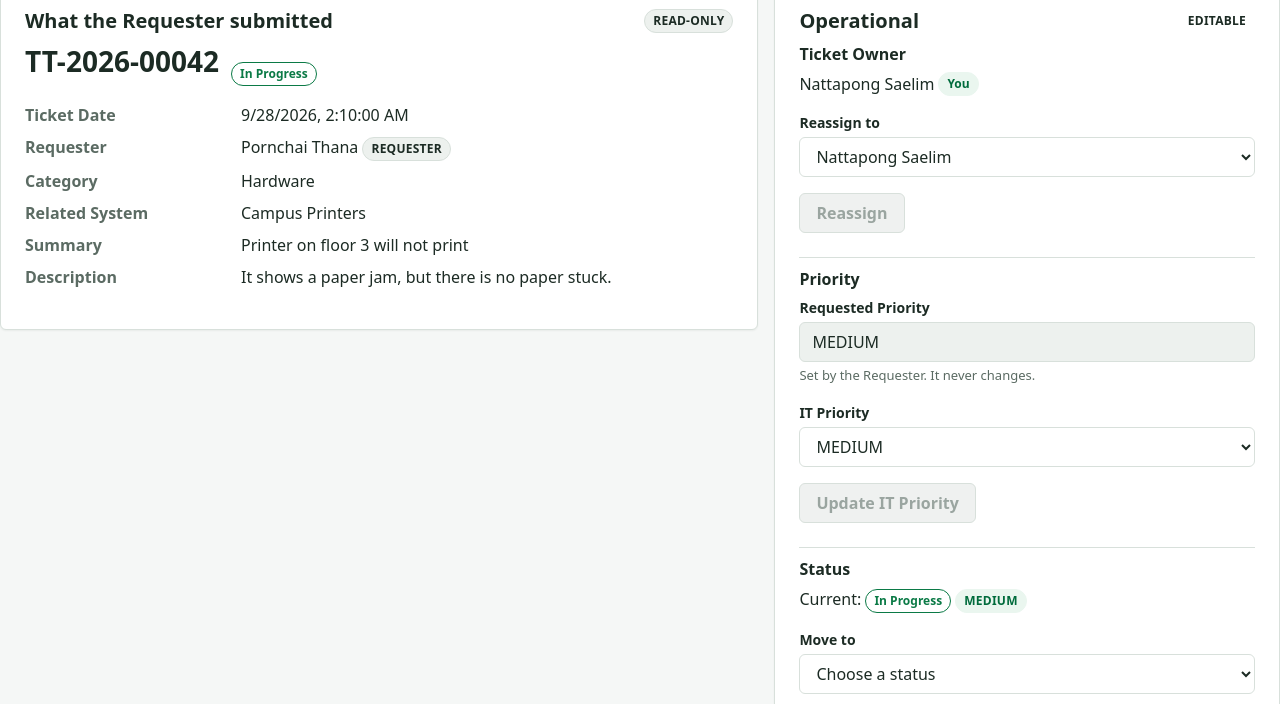
Test: UI-12 a gate refusal that reaches the server (AC-03, AC-16, BR-18) › shows {"status":409,"code":"ACTION_REQUIRED","fields":{}} as its own callout with the API's sentence, never as a generic failure
Expected: the heading "TT-2026-00042" is shown, top-left (25, 45), bottom-right (219, 79)
Select "Resolved" in the dropdown labelled "Move to" at (1027, 674), box top-left (799, 654), bottom-right (1255, 694)
(page scrolled)
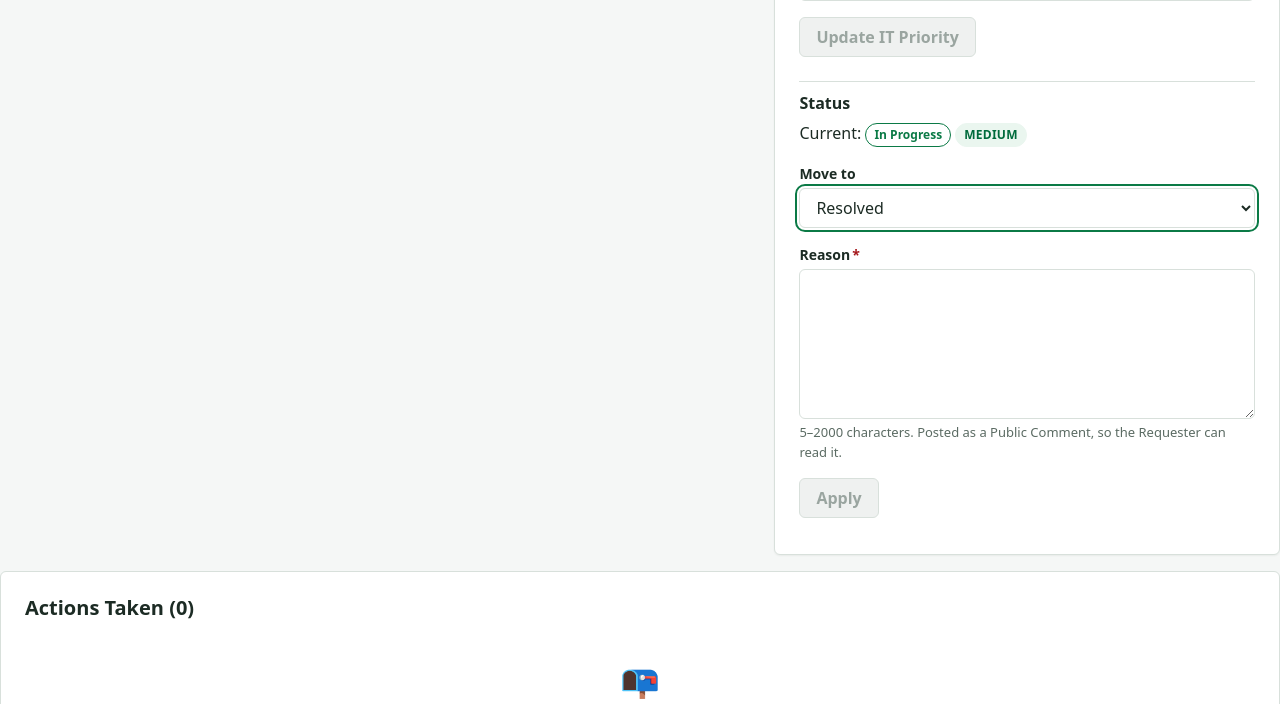
Type "Toner replaced and tested." into the text box labelled "Reason*".
click(1027, 344); type("Toner replaced and tested.")  # box top-left (799, 269), bottom-right (1255, 419)
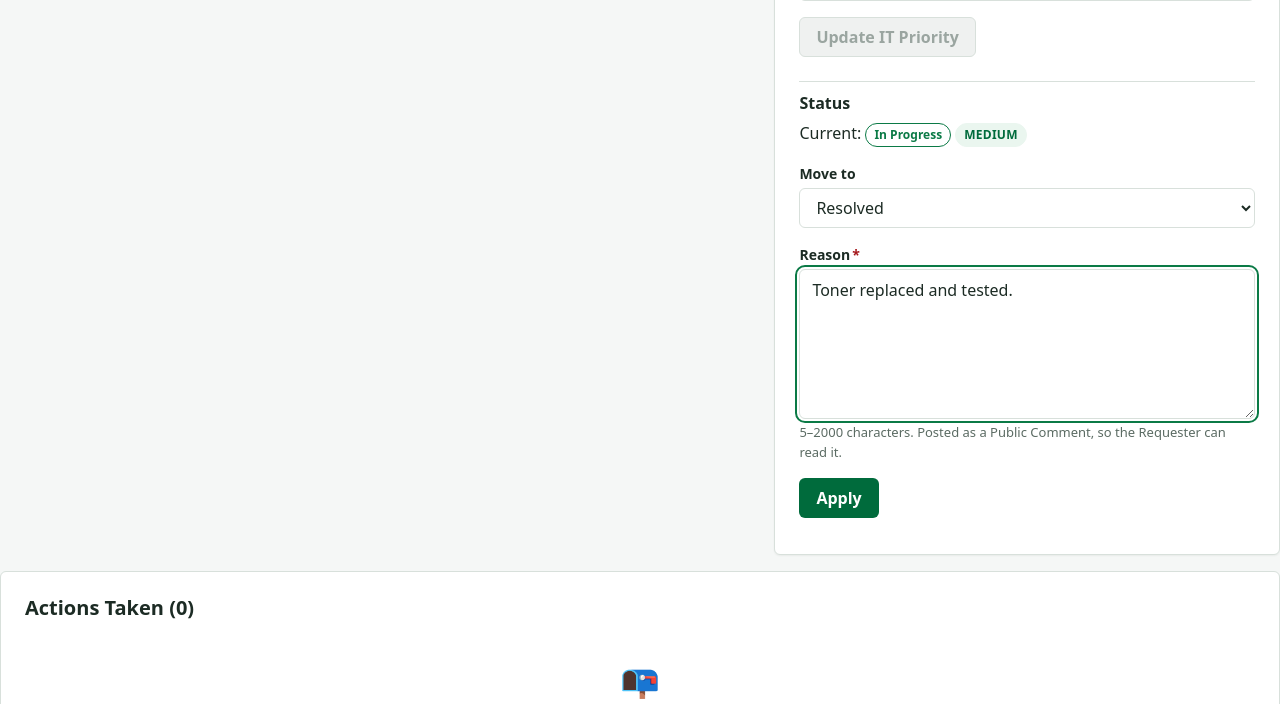
Click the button "Apply".
click(839, 498)  # box top-left (799, 478), bottom-right (879, 518)
(page scrolled)
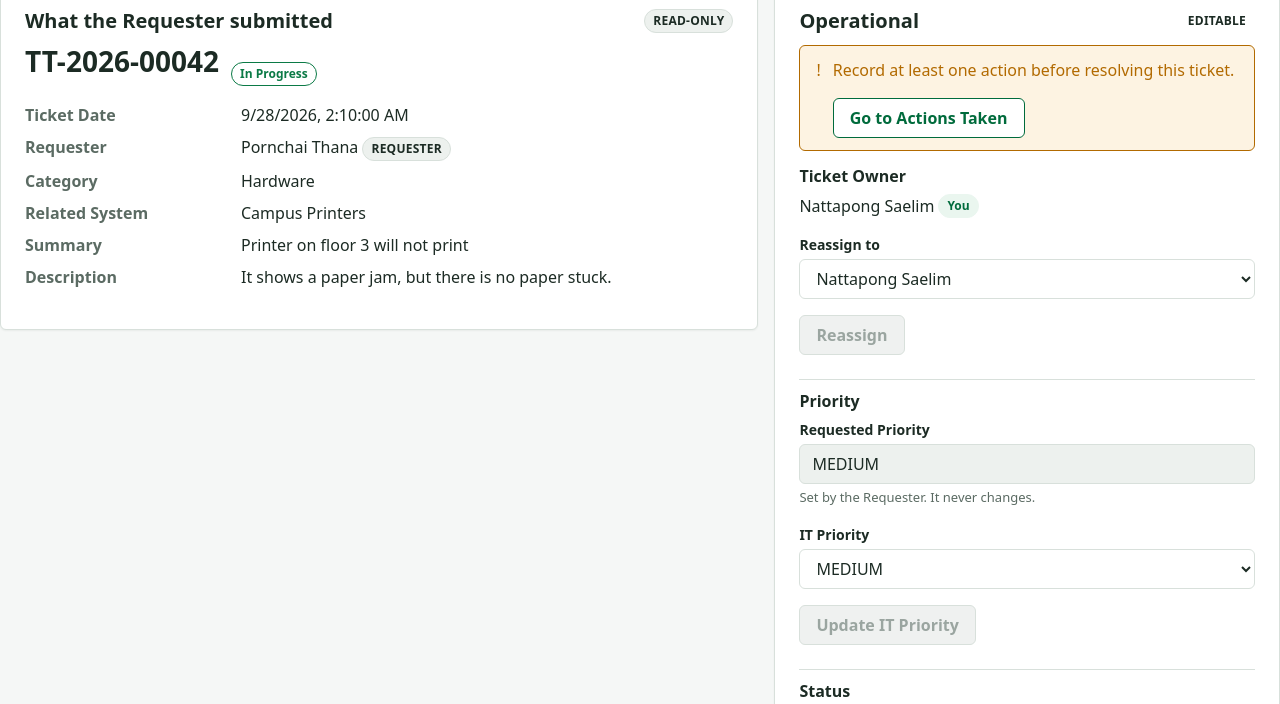
Result: the message shows "Record at least one action before resolving this ticket." at top-left (833, 59), bottom-right (1234, 81)
